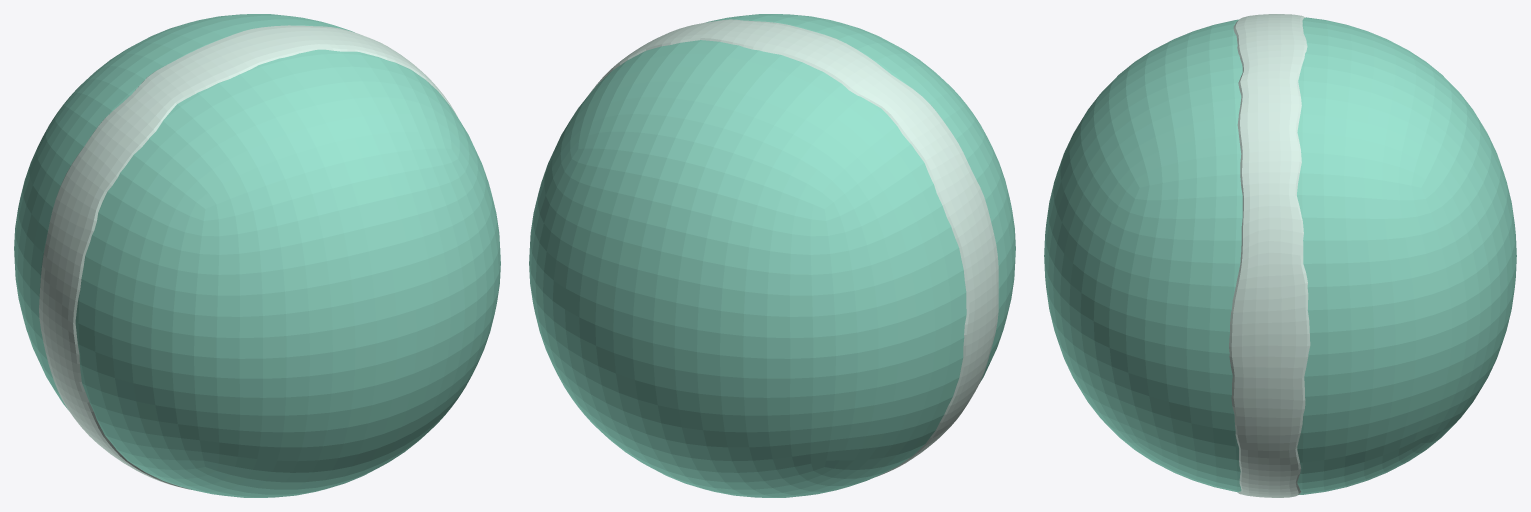
File: planeta.fbx
3 renders of one model, left to right at view 1: azimuth 30°, elevation 25°; view 2: azimuth 150°, elevation 25°; view 3: azimuth 270°, elevation 25°, orthographic.
Parts seen in each view (by area): view 1: Cube; view 2: Cube; view 3: Cube.
Part boxes in pixels (box(x1,y1,x2,y2)): Cube: box(14, 14, 500, 497); Cube: box(529, 14, 1015, 497); Cube: box(1044, 14, 1516, 497).
Bounding box in the file's own units: 696 × 696 × 690.
